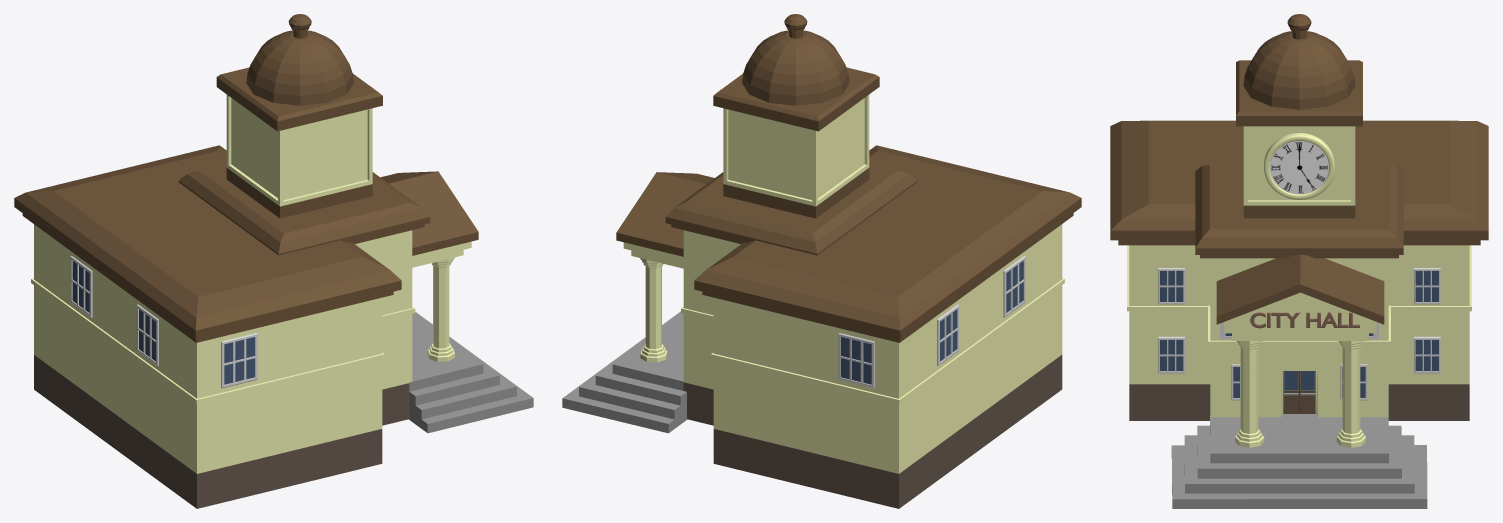
3 renders of one model, left to right at view 1: azimuth 30°, elevation 25°; view 2: azimuth 150°, elevation 25°; view 3: azimuth 270°, elevation 25°, orthographic. The views are drawn at different scales.
Parts seen in each view (by area): view 1: Sphere; view 2: Sphere; view 3: Sphere.
Part boxes in pixels (x1=…): Sphere: x1=14, y1=14, x2=533, y2=508; Sphere: x1=562, y1=14, x2=1081, y2=508; Sphere: x1=1110, y1=14, x2=1488, y2=508.
Bounding box in the file's own units: 4.05 × 4.1 × 3.46.
11 materials, 1 textured.
